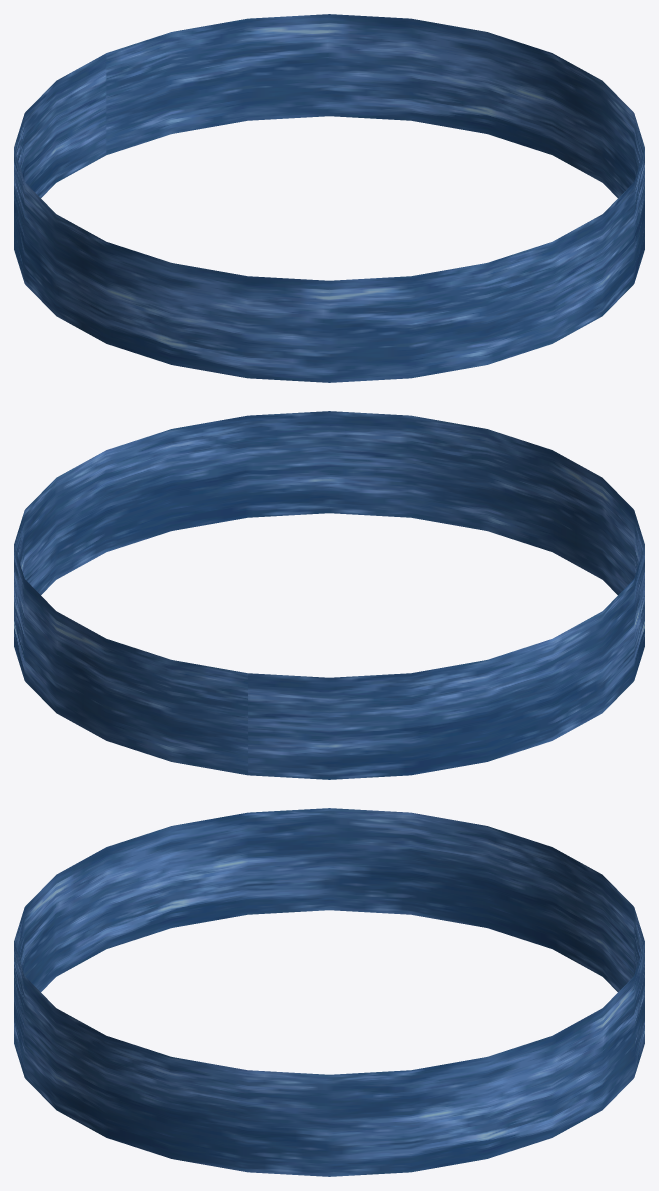
File: 10109_ghost01.FBX
3 views of the same model, one above another, from view 1: azimuth 30°, elevation 25°; view 2: azimuth 150°, elevation 25°; view 3: azimuth 270°, elevation 25° (orthographic).
Visible parts, largest first — view 1: Cylinder001; view 2: Cylinder001; view 3: Cylinder001.
Part boxes in pixels (bbox=[...]): Cylinder001: bbox=[14, 14, 644, 382]; Cylinder001: bbox=[14, 411, 644, 779]; Cylinder001: bbox=[14, 808, 644, 1176].
Bounding box in the file's own units: 5600 × 1000 × 5600.
